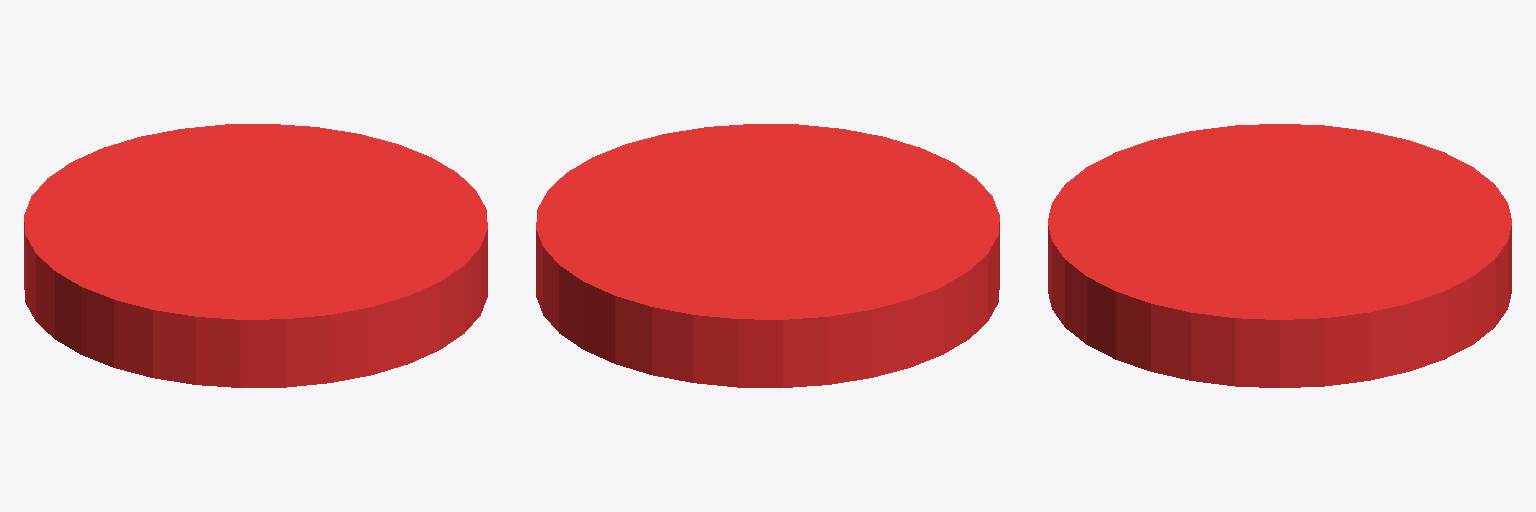
File: wheel.obj
3 views of the same model, side by side, from view 1: azimuth 30°, elevation 25°; view 2: azimuth 150°, elevation 25°; view 3: azimuth 270°, elevation 25° (orthographic).
Size of the model in its own units: 0.054 by 0.0087 by 0.054.